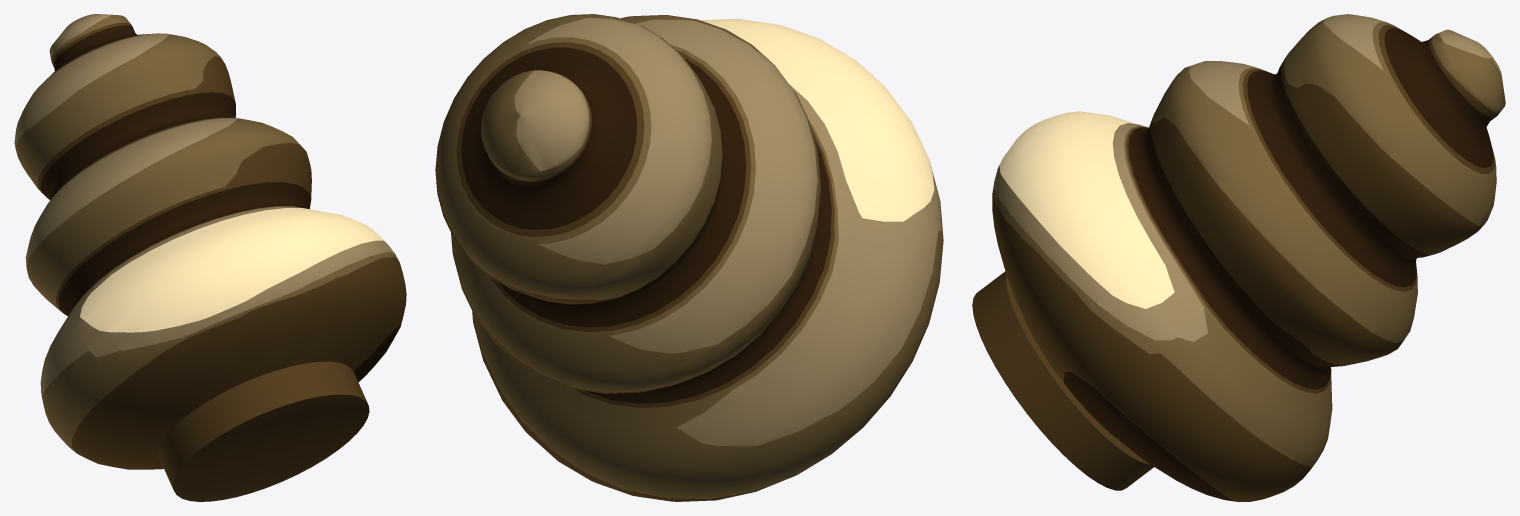
File: pump_dome.glb
3 renders of one model, left to right at view 1: azimuth 30°, elevation 25°; view 2: azimuth 150°, elevation 25°; view 3: azimuth 270°, elevation 25°, orthographic. The views are drawn at different scales.
Visible parts, largest first — view 1: pump_dome; view 2: pump_dome; view 3: pump_dome.
Part boxes in pixels (bbox=[...]): pump_dome: bbox=[14, 14, 406, 501]; pump_dome: bbox=[435, 14, 943, 501]; pump_dome: bbox=[972, 14, 1505, 501].
Size of the model in its own units: 19.2 by 21.35 by 22.97.
